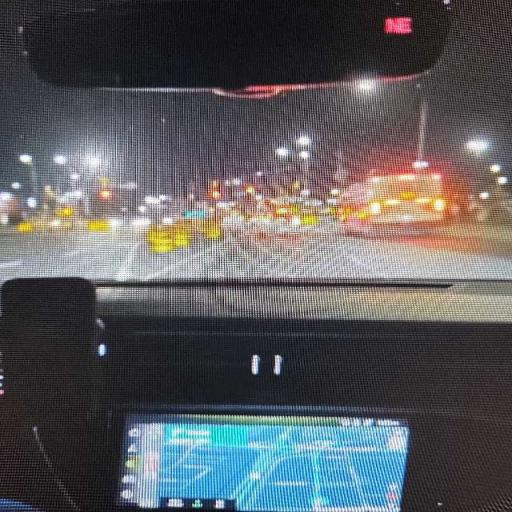car: (0, 0, 511, 511)
lane: (0, 227, 511, 280)
truck: (338, 171, 447, 233)
